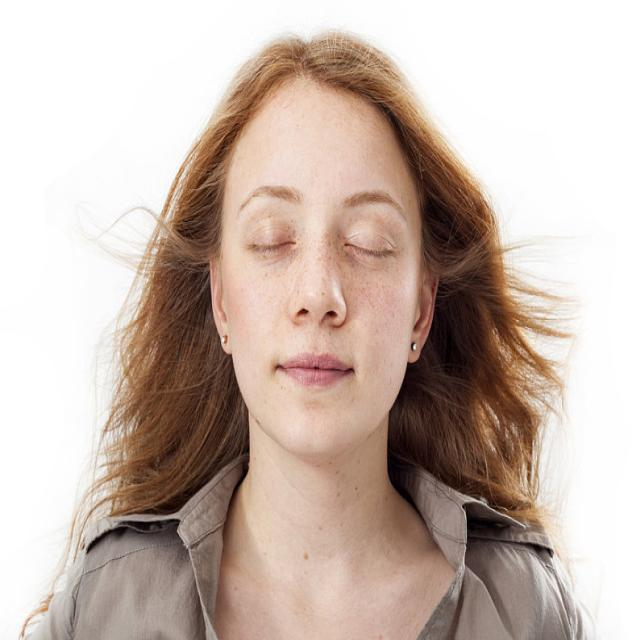Closed: (341, 220, 402, 272), (242, 219, 305, 262)
